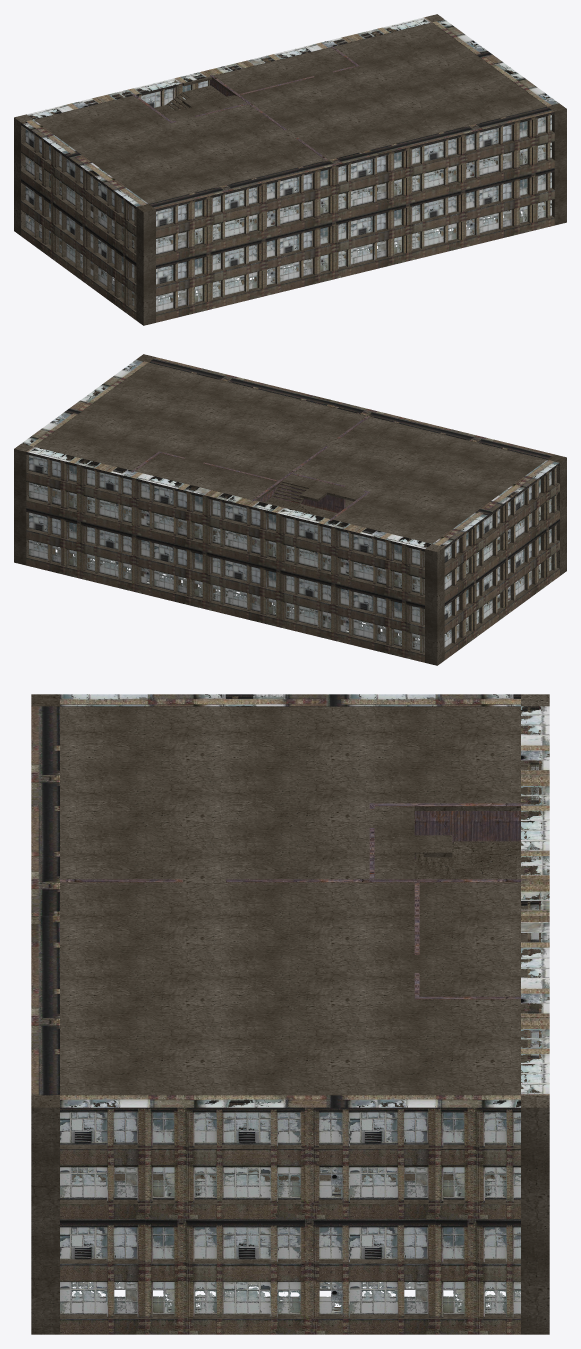
Rendered from BagSS08mid_high.fbx.
The picture shows the model from 3 angles, top to bottom: view 1: azimuth 30°, elevation 25°; view 2: azimuth 150°, elevation 25°; view 3: azimuth 270°, elevation 25°; orthographic projection. The views are drawn at different scales.
Visible parts, largest first — view 1: midCrete700, midMain700, midWalls700; view 2: midCrete700, midMain700, midWalls700; view 3: midCrete700, midMain700, midWalls700.
Part boxes in pixels (x1,y1,x2,y2): midCrete700: (14, 14, 566, 325); midMain700: (21, 17, 559, 322); midWalls700: (131, 45, 359, 264); midCrete700: (14, 354, 566, 665); midMain700: (21, 357, 559, 662); midWalls700: (131, 415, 369, 622); midCrete700: (31, 694, 549, 1334); midMain700: (31, 694, 549, 1334); midWalls700: (60, 803, 527, 999).
Bounding box in the file's own units: 60.9 × 15.61 × 32.27.
